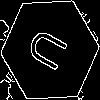U: (25, 25, 77, 79)
